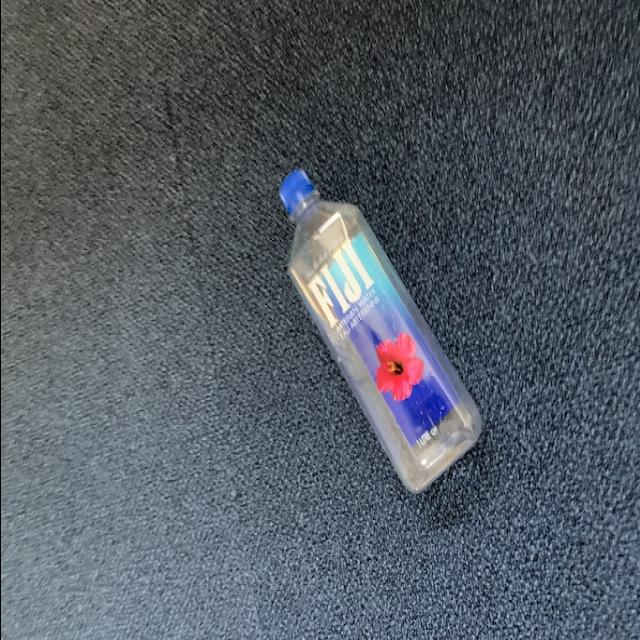PET: (271, 163, 480, 497)
